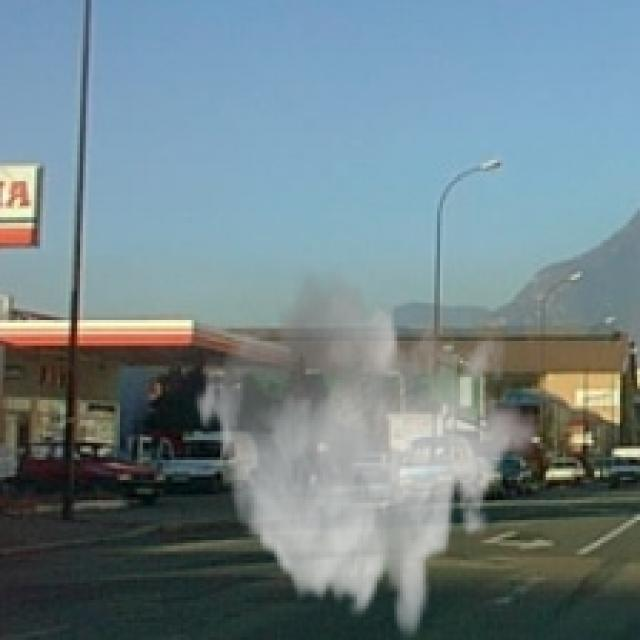smoke: (191, 260, 543, 637)
